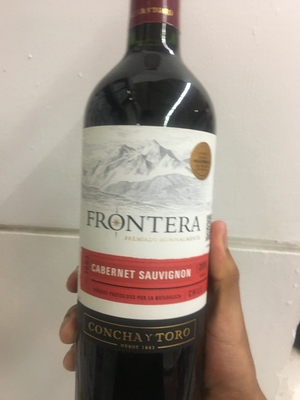frontera cabernet sauvignon: (75, 18, 220, 400)
